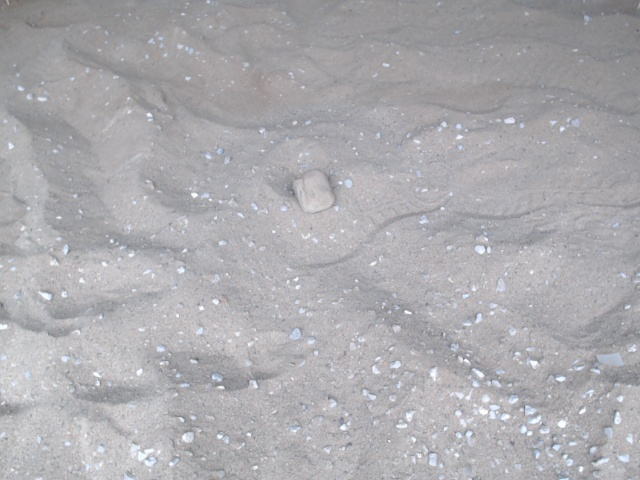rock: (287, 165, 341, 218)
